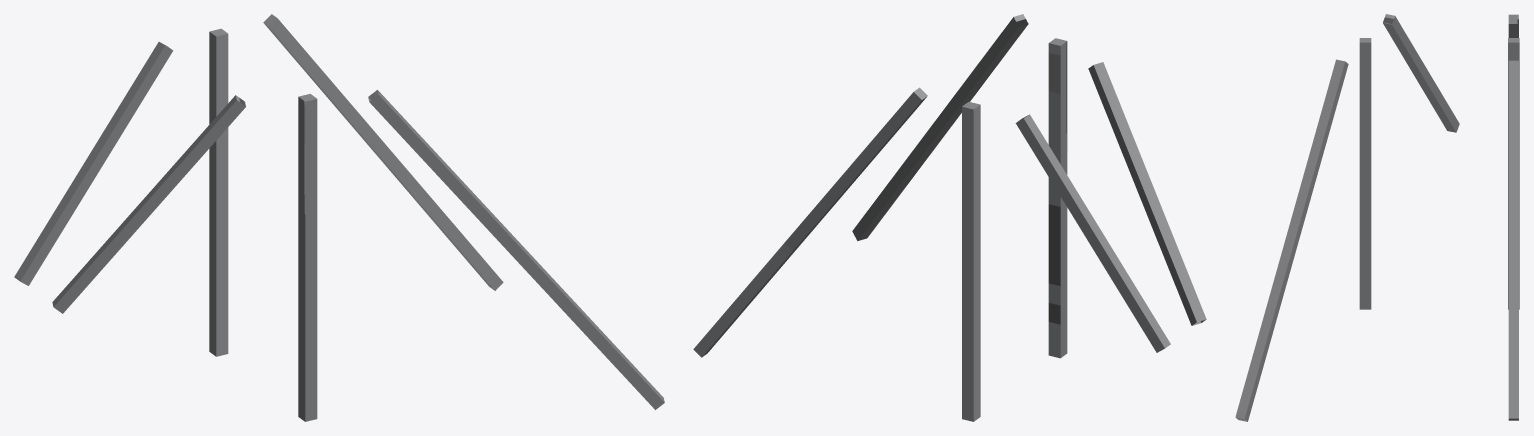
The picture shows the model from 3 angles, left to right: view 1: azimuth 30°, elevation 25°; view 2: azimuth 150°, elevation 25°; view 3: azimuth 270°, elevation 25°; orthographic projection. The views are drawn at different scales.
Size of the model in its own units: 1.61 by 1.03 by 0.9766.
